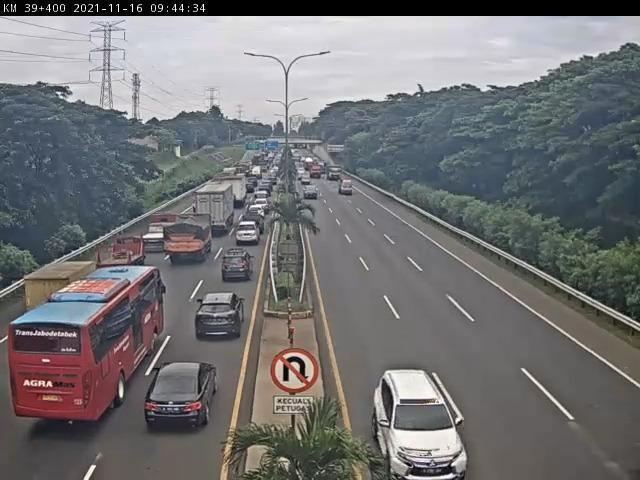bus: (10, 271, 162, 423)
car: (375, 370, 472, 480), (146, 363, 218, 428), (194, 294, 245, 340), (220, 252, 251, 284), (233, 227, 258, 251), (242, 219, 265, 236), (248, 204, 267, 219)
truck: (13, 260, 97, 318), (192, 184, 235, 234), (163, 218, 211, 262), (98, 237, 149, 278), (138, 216, 177, 255), (222, 180, 250, 211)
